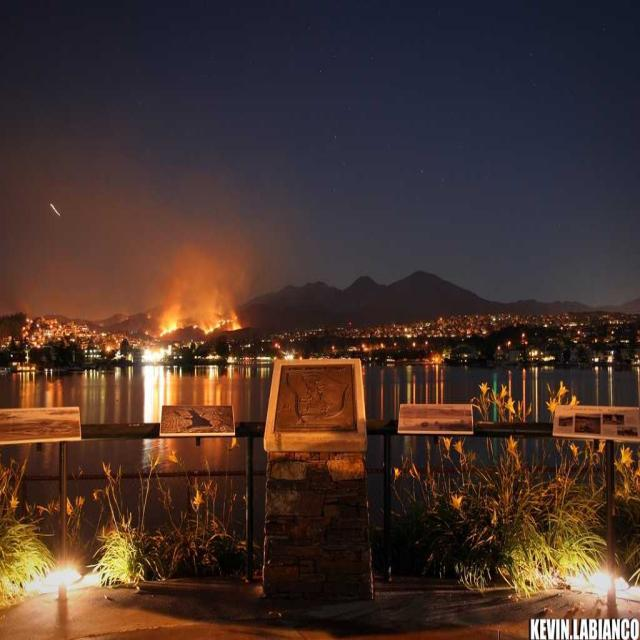Fire: (159, 321, 178, 334), (229, 316, 241, 331), (206, 320, 218, 334)
Smoke: (169, 252, 232, 310)
